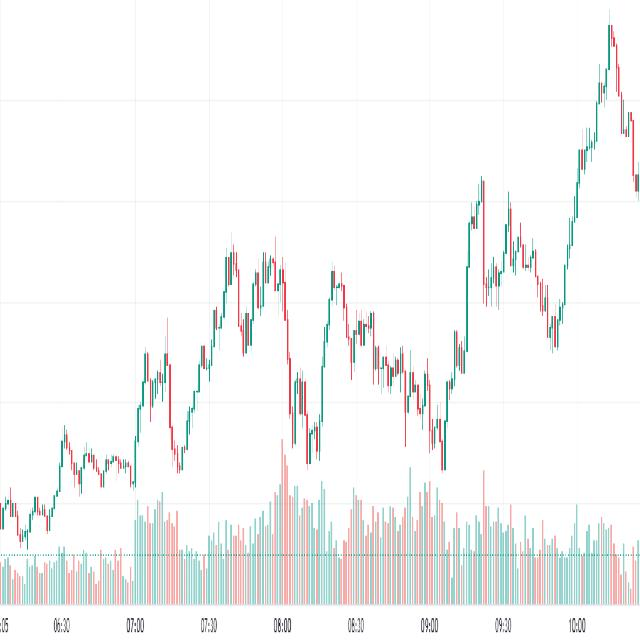Channel-down: (319, 209, 466, 523)
Double-Top: (133, 318, 175, 445)
